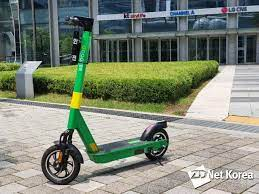kick_board: (40, 16, 168, 183)
kick_handler: (65, 15, 94, 30)
kick_neck: (64, 33, 89, 126)
kick_wheel: (42, 145, 80, 182), (143, 128, 168, 157)
